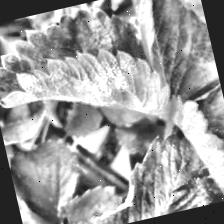Powdery Mildew Leaf: (0, 0, 176, 159), (72, 126, 218, 224), (162, 80, 224, 209)
